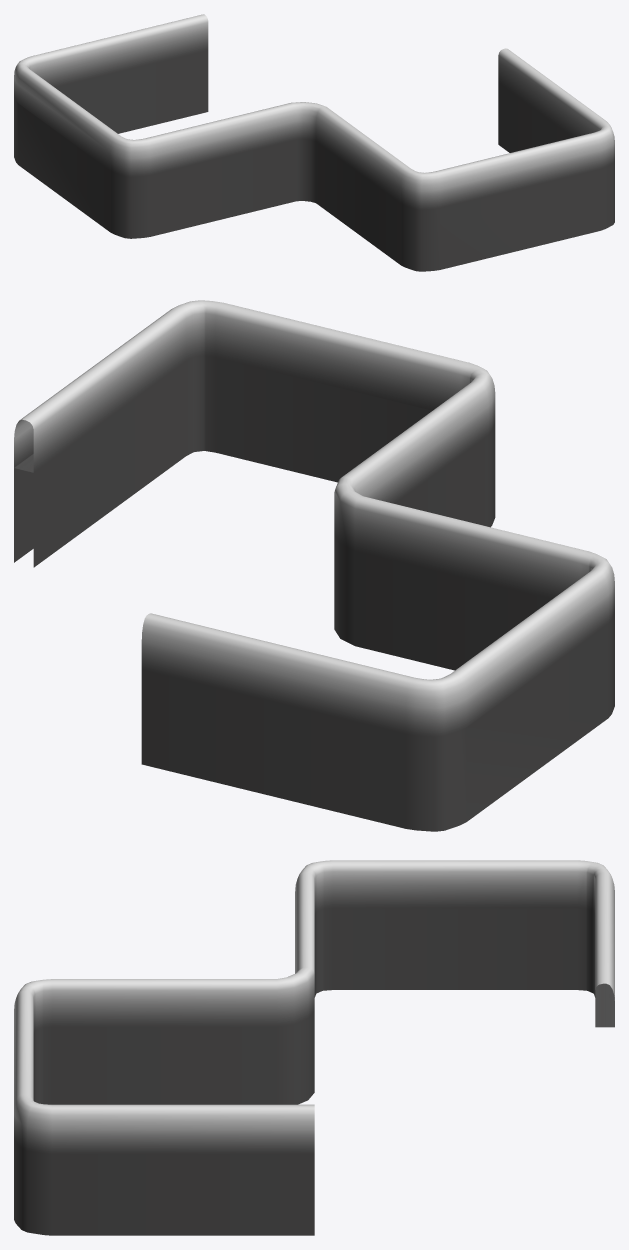
The picture shows the model from 3 angles, top to bottom: view 1: azimuth 30°, elevation 25°; view 2: azimuth 150°, elevation 25°; view 3: azimuth 270°, elevation 25°; orthographic projection. The views are drawn at different scales.
Parts seen in each view (by area): view 1: PieceType5, plane; view 2: PieceType5, plane; view 3: PieceType5, plane.
Part boxes in pixels (bbox=[...]): PieceType5: bbox=[14, 50, 614, 271]; plane: bbox=[14, 14, 614, 209]; PieceType5: bbox=[14, 356, 614, 831]; plane: bbox=[14, 300, 614, 736]; PieceType5: bbox=[14, 908, 595, 1235]; plane: bbox=[14, 860, 614, 1153].
Bounding box in the file's own units: 214 × 49.11 × 214.
